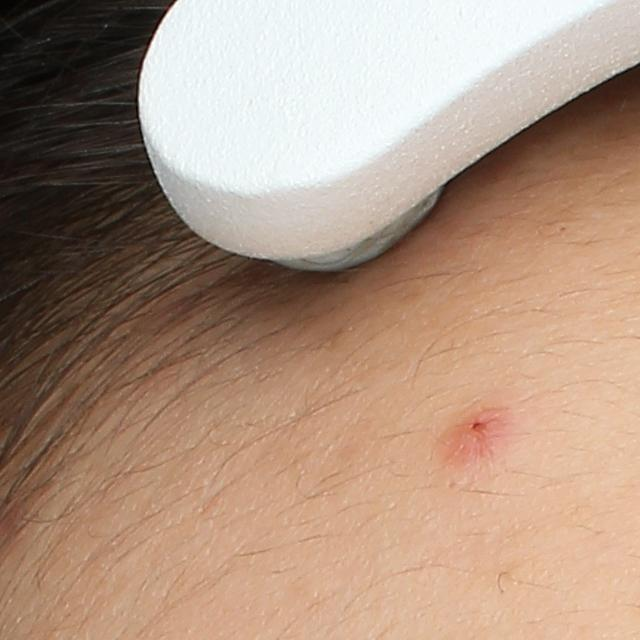papule: (453, 409, 503, 450)
